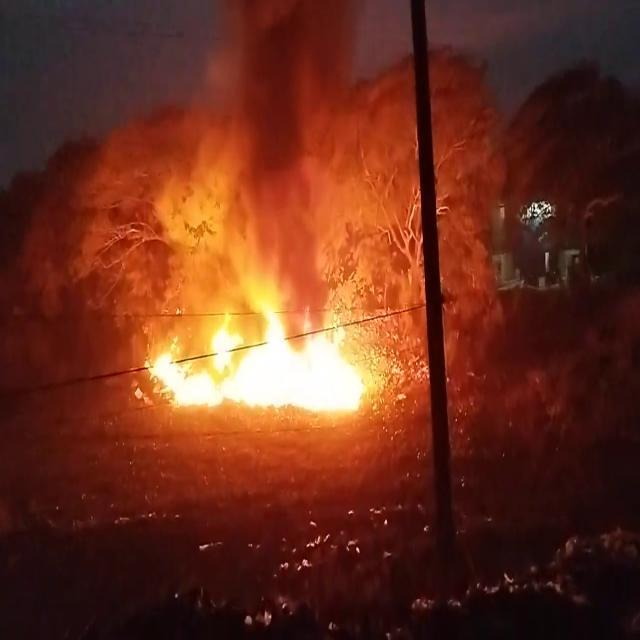Fire: (130, 286, 390, 424)
Smoke: (172, 0, 414, 299)
